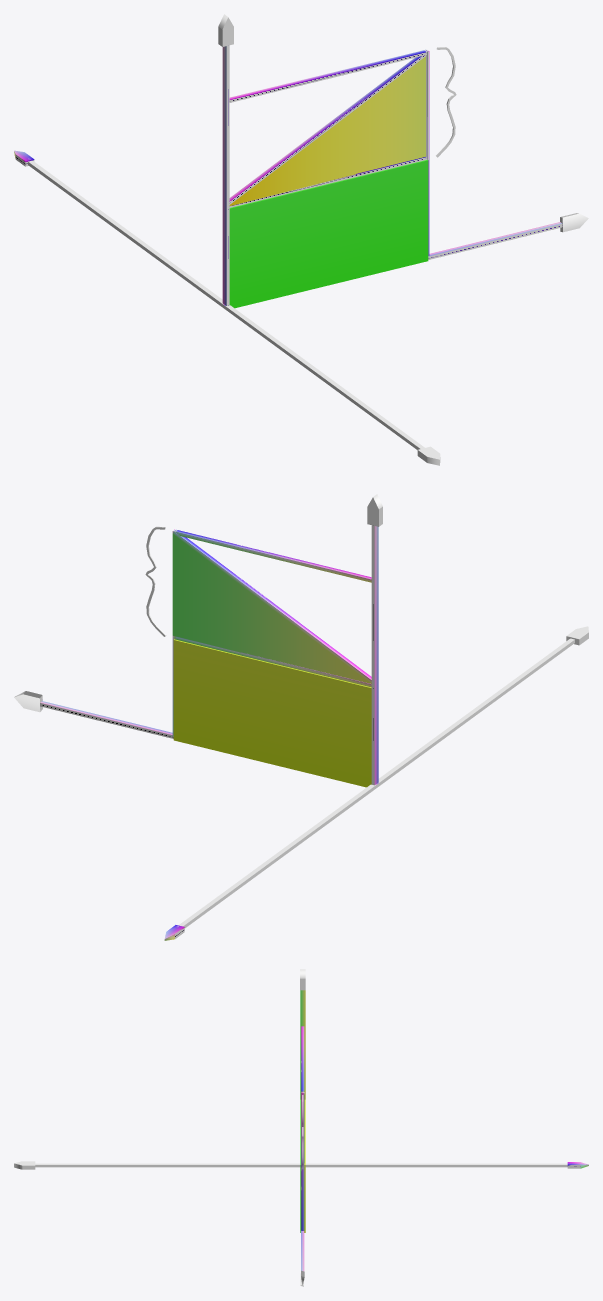
The model's file is graph5.fbx.
The picture shows the model from 3 angles, top to bottom: view 1: azimuth 30°, elevation 25°; view 2: azimuth 150°, elevation 25°; view 3: azimuth 270°, elevation 25°; orthographic projection. The views are drawn at different scales.
Parts seen in each view (by area): view 1: graph5; view 2: graph5; view 3: graph5.
Boxes of the visible parts, x1,y1,x2,y2 form: graph5: (14,14,588,465); graph5: (14,494,588,940); graph5: (14,969,588,1286).
Bounding box in the file's own units: 53.49 × 41.36 × 107.
1 material, 1 textured.
